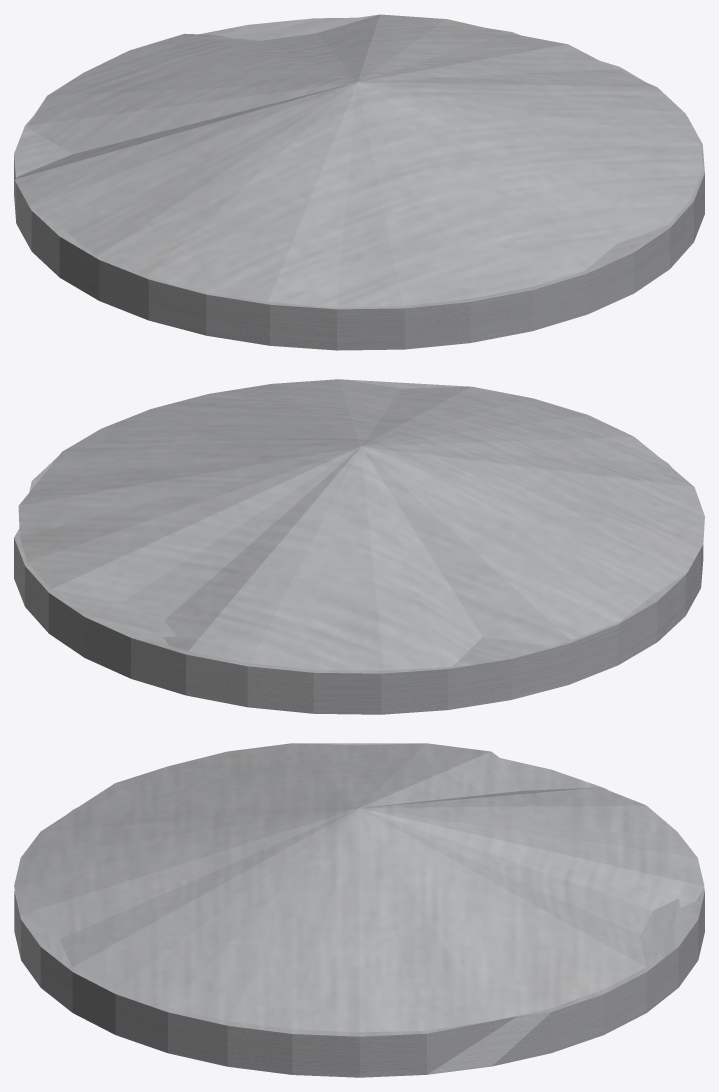
File: xbandradio.glb
3 views of the same model, one above another, from view 1: azimuth 30°, elevation 25°; view 2: azimuth 150°, elevation 25°; view 3: azimuth 270°, elevation 25° (orthographic).
Parts seen in each view (by area): view 1: Cone, Cylinder; view 2: Cone, Cylinder; view 3: Cone, Cylinder.
Part boxes in pixels (x1,y1,x2,y2): Cone: (14,14,702,307); Cylinder: (14,17,704,350); Cone: (18,379,704,670); Cylinder: (14,457,703,714); Cone: (14,743,704,1032); Cylinder: (14,758,704,1077).
Size of the model in its own units: 2 by 0.3925 by 2.
1 material, 1 textured.
